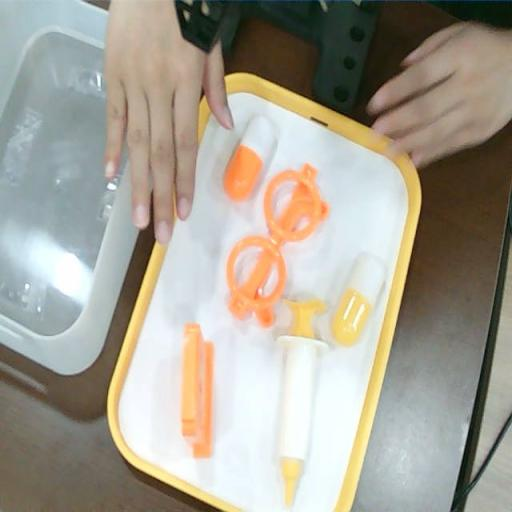hospital: (105, 6, 234, 245)
